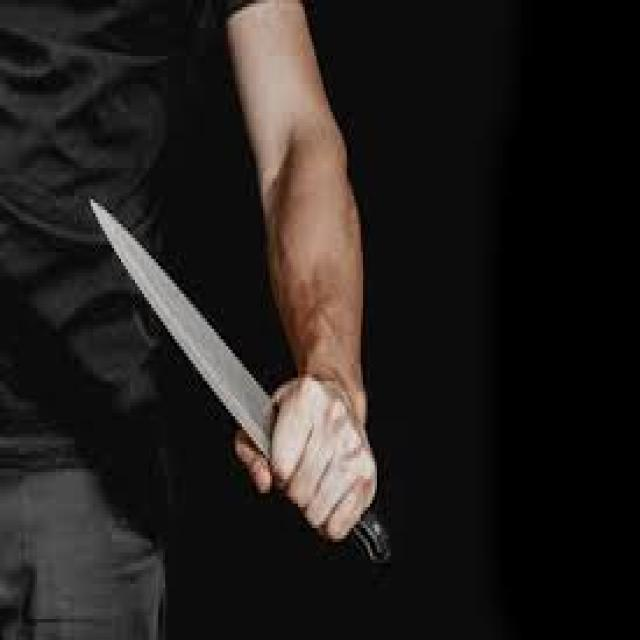faca: (79, 178, 400, 566)
